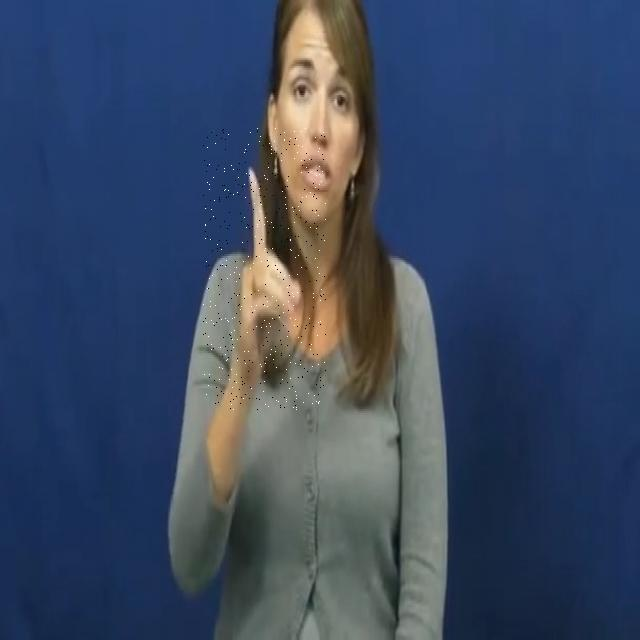would: (203, 128, 326, 410)
